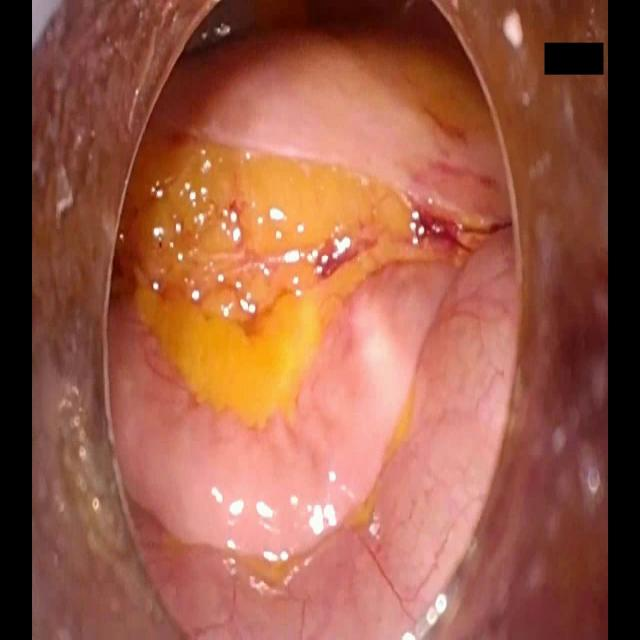surgical-area: (31, 0, 608, 639)
